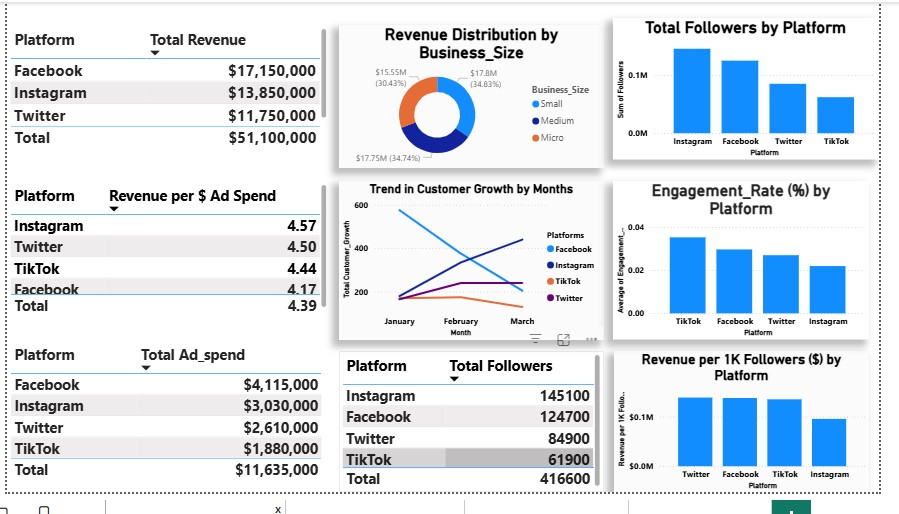

The page's visual inventory and layout, read from the dashboard file:
{"tool":"powerbi","page":{"name":"General Over View page 1","canvas":[1280,720],"ordinal":0},"visuals":[{"type":"tableEx","fields":{"Values":["Duplicated copy.Platform","Sum(Duplicated copy.Monthly_Revenue)"]},"box":[0,33.6,475.4,186.5],"z":0},{"type":"tableEx","fields":{"Values":["Duplicated copy.Platform","Duplicated copy.Total Ad_spend"]},"box":[0,263,476.1,223.3],"z":1000},{"type":"tableEx","fields":{"Values":["Duplicated copy.Platform","Duplicated copy.Revenue per ₦ Ad Spend"]},"box":[0,512.8,476.1,202.8],"z":2000},{"type":"columnChart","title":"Total Followers by Platform","fields":{"Category":["Duplicated copy.Platform"],"Y":["Sum(Duplicated copy.Followers)"]},"box":[890.3,23.5,389.7,208.3],"z":3000},{"type":"columnChart","fields":{"Category":["Duplicated copy.Platform"],"Y":["Duplicated copy.Revenue per 1K Followers"]},"box":[892,512.3,374.6,208.3],"z":4000},{"type":"columnChart","title":" Engagement_Rate (%) by Platform","fields":{"Category":["Duplicated copy.Platform"],"Y":["Avg(Duplicated copy.Engagement_Rate (%))"]},"box":[890.3,263.7,376.3,233.5],"z":5000},{"type":"donutChart","title":" Revenue Distribution by Business_Size","fields":{"Category":["Duplicated copy.Business_Size"],"Y":["Sum(Duplicated copy.Revenue)"]},"box":[487.8,33.8,389.4,210.1],"z":6000},{"type":"tableEx","fields":{"Values":["Duplicated copy.Platform","Sum(Duplicated copy.Followers)"]},"box":[487.8,512.8,389.4,207.2],"z":7000},{"type":"lineChart","title":"Trend in Customer Growth by Months","fields":{"Category":["Duplicated copy.Month.Variation.Date Hierarchy.Month"],"Series":["Duplicated copy.Platform"],"Y":["Sum(Duplicated copy.Customer_Growth)"]},"box":[487.8,263,389.4,233.6],"z":8000}]}

Visuals, with their boxes on the page's 1280x720 design canvas (x1, y1, x2, y2). These are canvas units, not pixel positions in the 899x514 screenshot, which may show the page scaled, cropped or inside an application window:
tableEx - Duplicated copy.Platform x Sum(Duplicated copy.Monthly_Revenue): crop(0, 34, 475, 220)
tableEx - Duplicated copy.Platform x Duplicated copy.Total Ad_spend: crop(0, 263, 476, 486)
tableEx - Duplicated copy.Platform x Duplicated copy.Revenue per ₦ Ad Spend: crop(0, 513, 476, 716)
"Total Followers by Platform" columnChart: crop(890, 24, 1280, 232)
columnChart - Duplicated copy.Platform x Duplicated copy.Revenue per 1K Followers: crop(892, 512, 1267, 721)
" Engagement_Rate (%) by Platform" columnChart: crop(890, 264, 1267, 497)
" Revenue Distribution by Business_Size" donutChart: crop(488, 34, 877, 244)
tableEx - Duplicated copy.Platform x Sum(Duplicated copy.Followers): crop(488, 513, 877, 720)
"Trend in Customer Growth by Months" lineChart: crop(488, 263, 877, 497)
